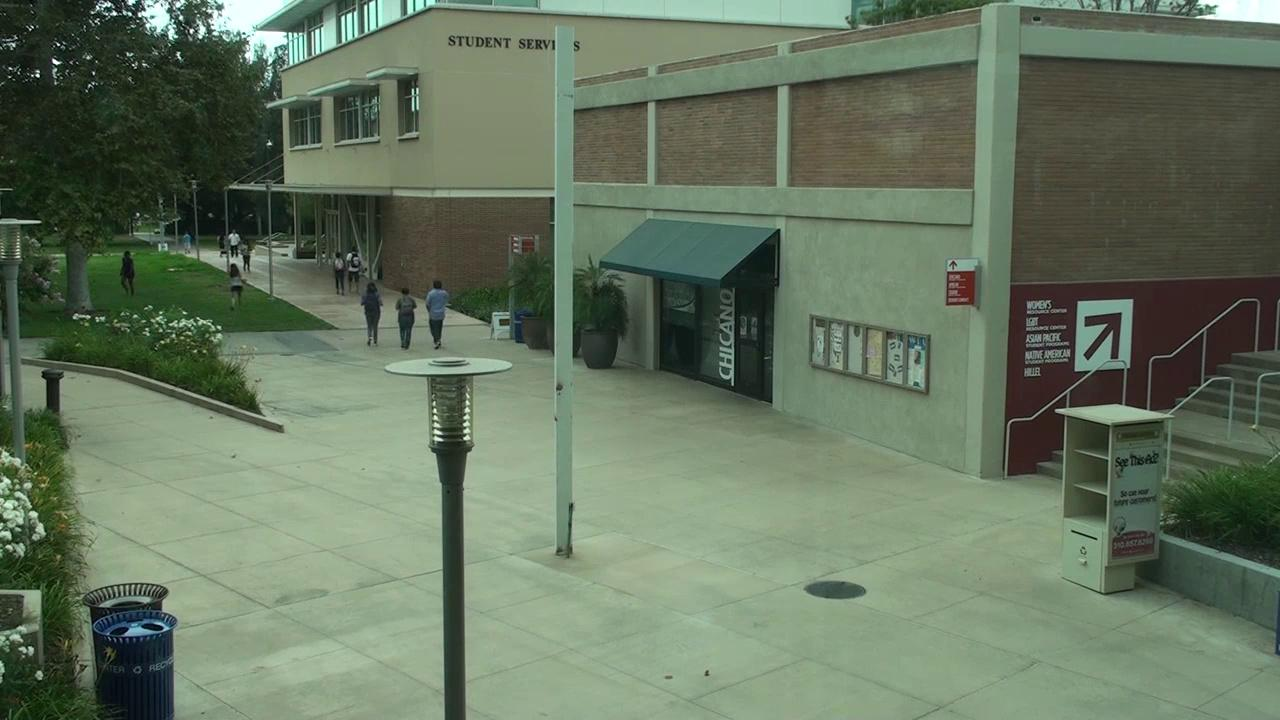person: (426, 280, 448, 348), (361, 282, 381, 345), (396, 288, 416, 349), (335, 251, 361, 290), (229, 263, 243, 309), (121, 251, 134, 294), (332, 257, 346, 294), (241, 242, 251, 273)
